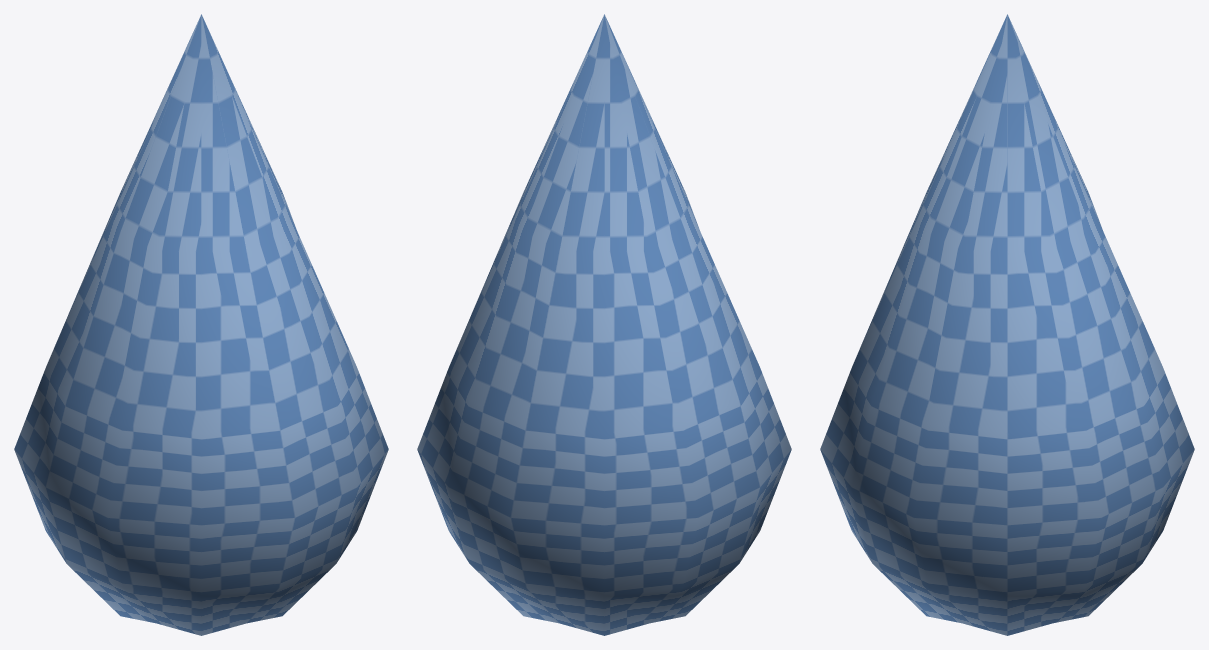
The model's file is sphereMorph.FBX.
3 renders of one model, left to right at view 1: azimuth 30°, elevation 25°; view 2: azimuth 150°, elevation 25°; view 3: azimuth 270°, elevation 25°, orthographic.
Visible parts, largest first — view 1: Sphere001; view 2: Sphere001; view 3: Sphere001.
Boxes of the visible parts, left/top/right/bottom form: Sphere001: left=14, top=14, right=388, bottom=635; Sphere001: left=417, top=14, right=791, bottom=635; Sphere001: left=820, top=14, right=1194, bottom=635.
Bounding box in the file's own units: 2 × 2.08 × 3.67.
1 material, 1 textured.
